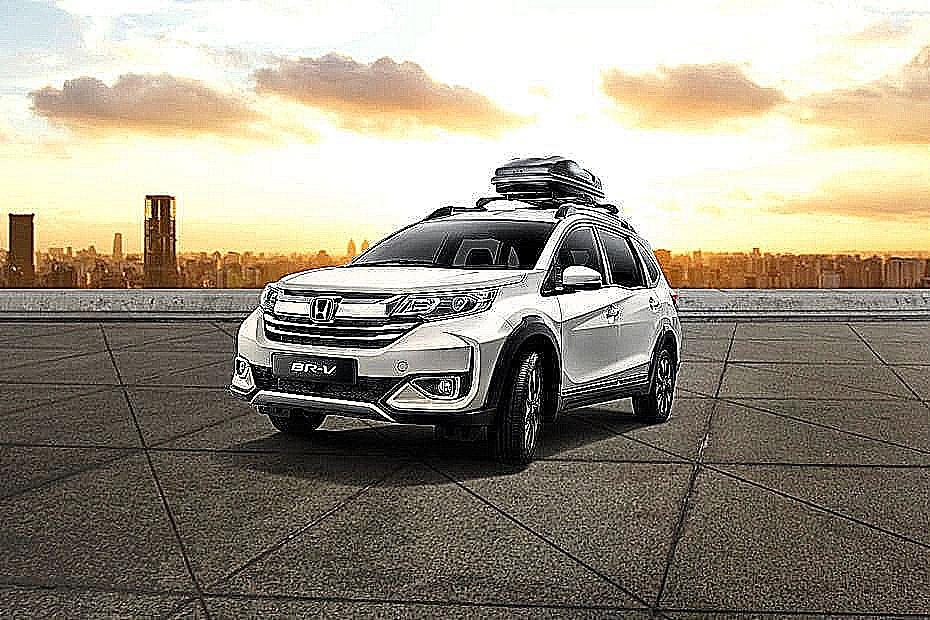Car hood: (260, 265, 533, 296)
Fender - -F-L-: (494, 267, 563, 385)
Front bumper: (230, 307, 510, 420)
Headlight - -L-: (389, 284, 497, 324)
Headlight - -R-: (258, 282, 278, 313)
Passenger-s door - -F-L-: (549, 203, 628, 422)
Passenger-s door - -R-L-: (594, 203, 665, 424)
Side bumper - -L-: (551, 359, 658, 421)
Side mirror - -L-: (548, 265, 601, 299)
